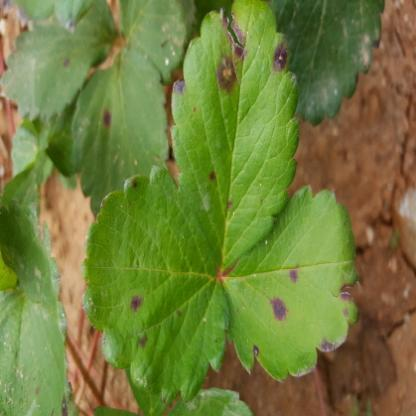Strawberry_Leaf_Spot: (80, 163, 229, 406), (170, 0, 302, 274), (221, 184, 364, 382), (0, 198, 78, 414), (71, 48, 168, 217), (0, 20, 93, 121)
